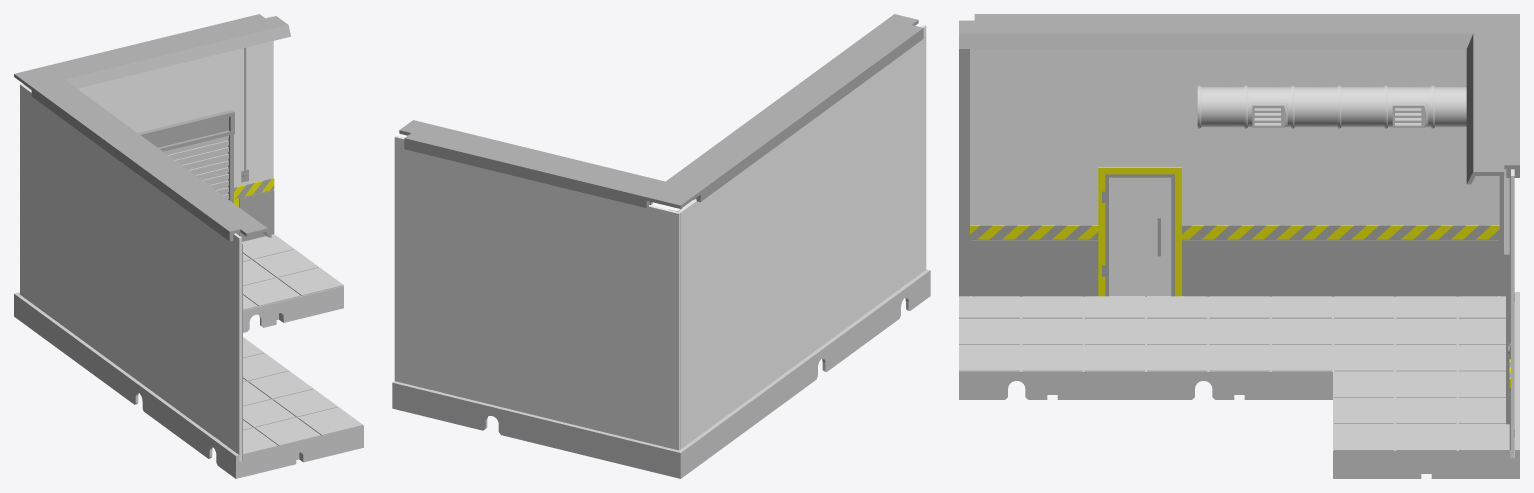
The model's file is eckprofil_links.glb.
3 views of the same model, side by side, from view 1: azimuth 30°, elevation 25°; view 2: azimuth 150°, elevation 25°; view 3: azimuth 270°, elevation 25° (orthographic). The views are drawn at different scales.
Visible parts, largest first — view 1: Seitenwand_Garage-1, Werkstattboden-1, Wand_Garage-1, Artika_Winkel-1; view 2: Wand_Garage-1, Seitenwand_Garage-1, Artika_Winkel-1, Werkstattboden-1; view 3: Seitenwand_Garage-1, Werkstattboden-1, Artika_Winkel-1, Lüftung-1, Wand_Garage-1.
Boxes of the visible parts, <box> form: Seitenwand_Garage-1: <box>21,85,242,461</box>; Werkstattboden-1: <box>14,234,363,478</box>; Wand_Garage-1: <box>20,16,274,295</box>; Artika_Winkel-1: <box>14,14,290,241</box>; Wand_Garage-1: <box>394,136,680,450</box>; Seitenwand_Garage-1: <box>677,24,926,448</box>; Artika_Winkel-1: <box>399,14,923,208</box>; Werkstattboden-1: <box>392,269,930,478</box>; Seitenwand_Garage-1: <box>959,20,1505,296</box>; Werkstattboden-1: <box>959,292,1519,478</box>; Artika_Winkel-1: <box>959,14,1519,184</box>; Lüftung-1: <box>1197,85,1466,128</box>; Wand_Garage-1: <box>1504,169,1514,458</box>.
Bounding box in the file's own units: 0.12 × 0.1087 × 0.18.
